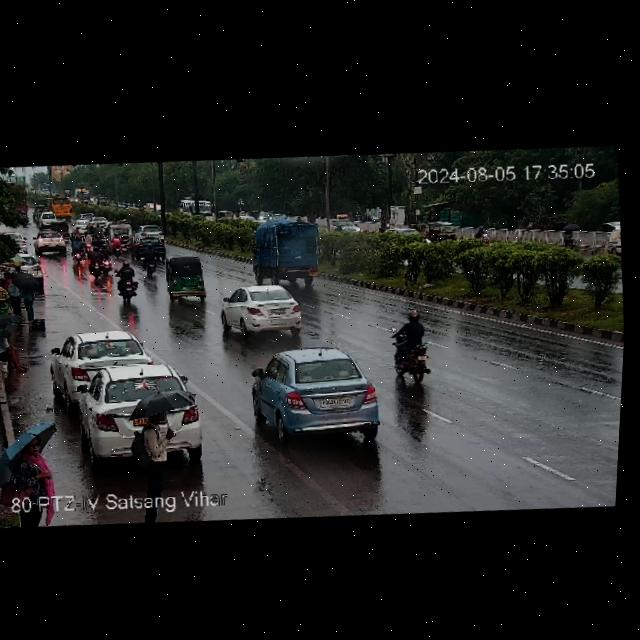bus: (51, 193, 76, 219)
car: (246, 340, 385, 453), (76, 358, 202, 431), (50, 326, 148, 399), (218, 280, 310, 342), (163, 254, 211, 303), (425, 219, 466, 245), (33, 230, 68, 257), (133, 223, 169, 243), (8, 230, 35, 255), (111, 221, 133, 248), (47, 216, 71, 235), (71, 215, 90, 230), (90, 214, 108, 228)
motorcycle: (381, 310, 438, 388), (131, 242, 164, 278), (115, 258, 140, 303), (87, 244, 116, 277), (68, 229, 89, 261), (111, 230, 131, 254)
person: (129, 390, 199, 491), (5, 431, 60, 528), (3, 266, 46, 321), (0, 317, 25, 374)
truck: (249, 216, 322, 292)
